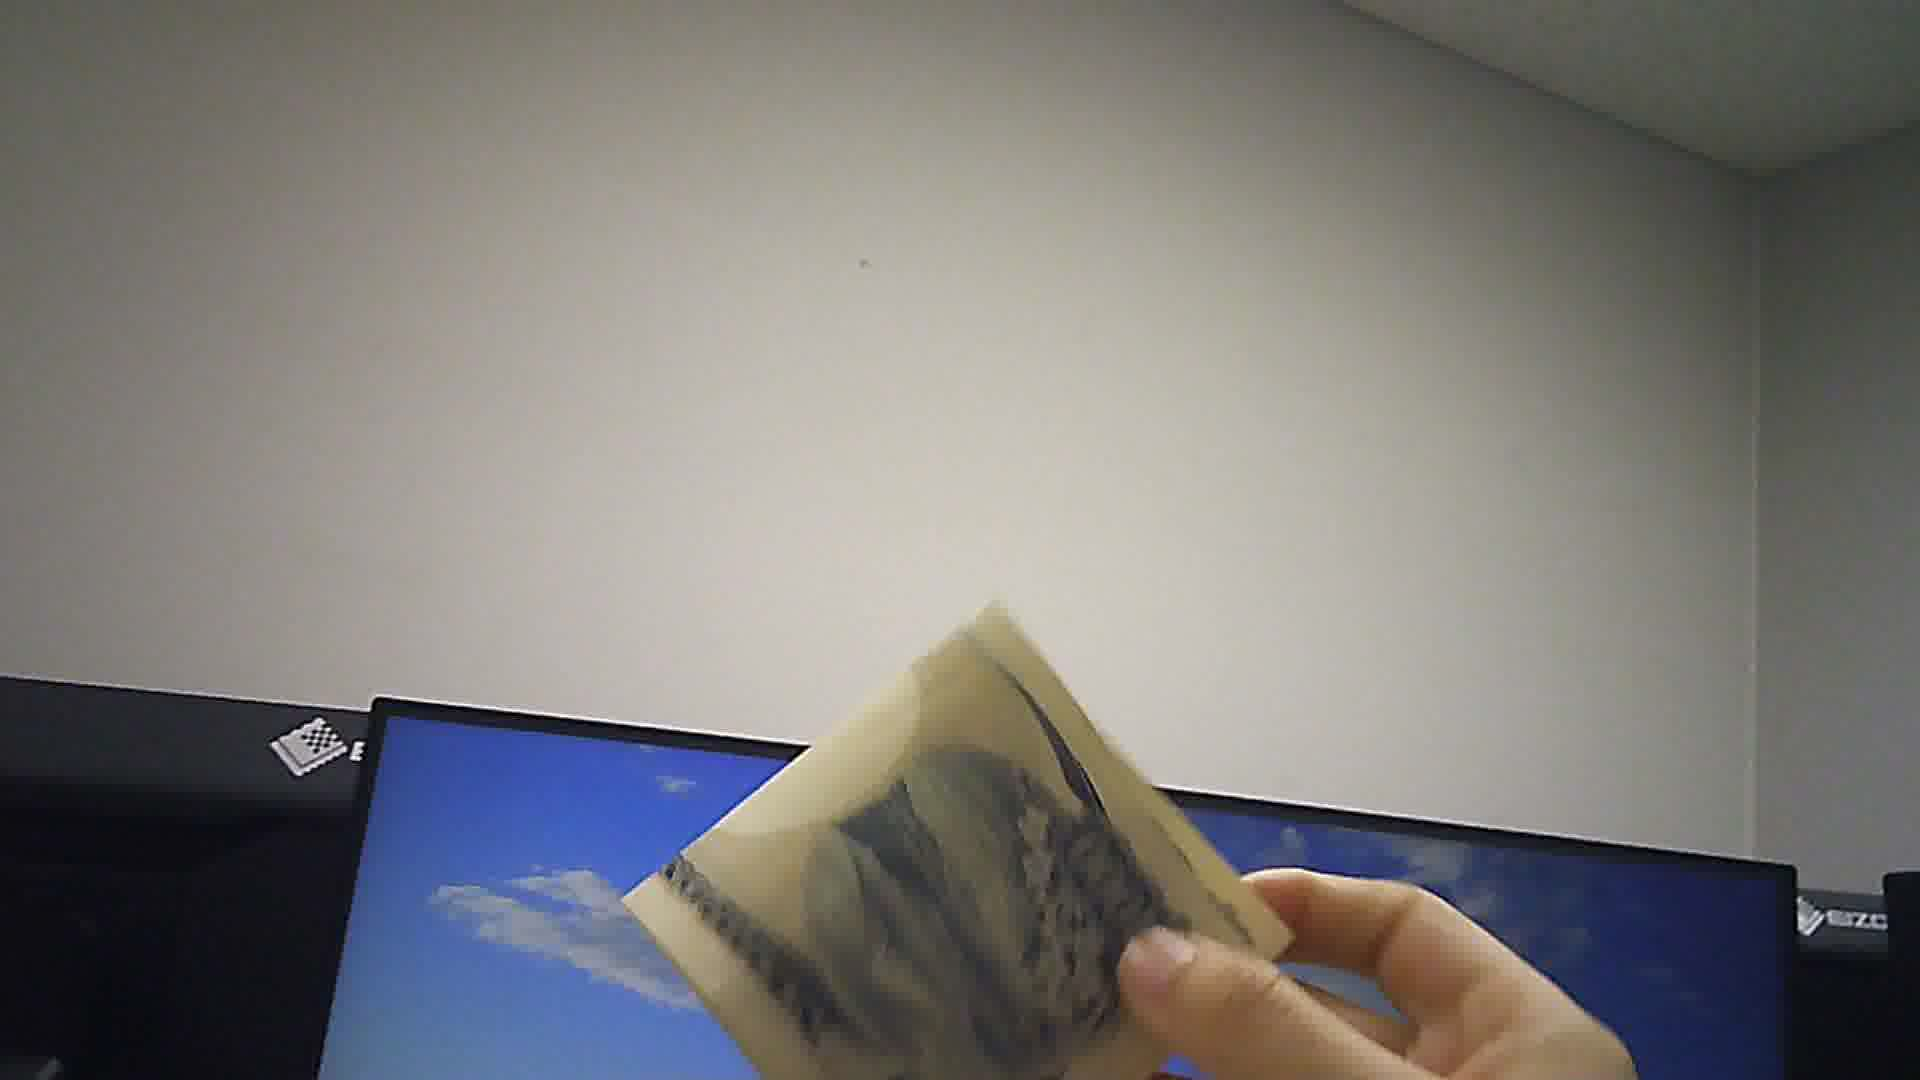1,000 Yen: (626, 571, 1255, 1079)
